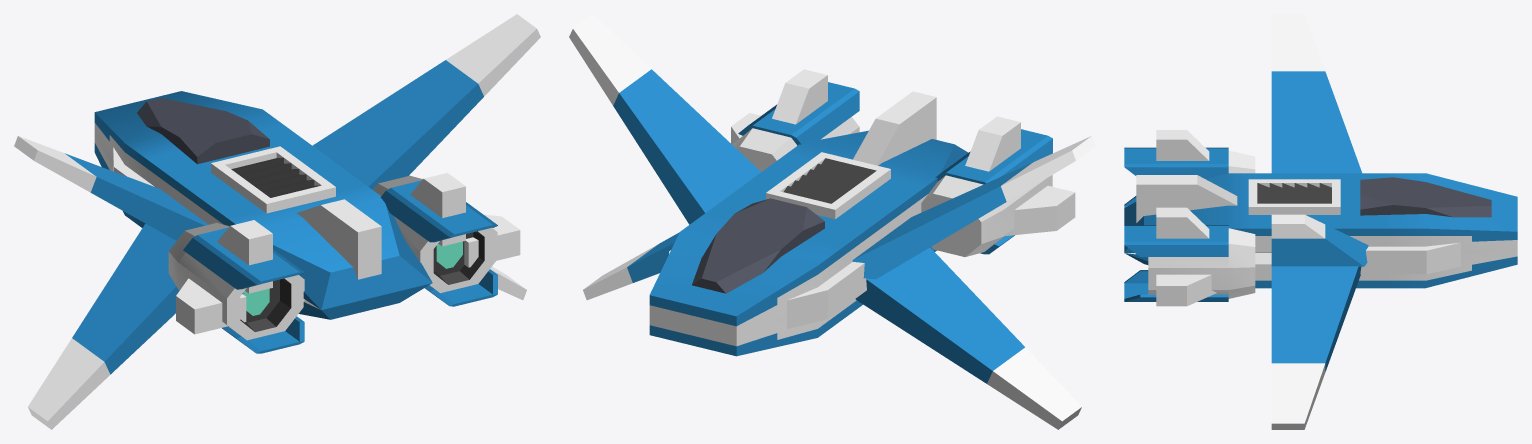
Rendered from Lancer.obj.
3 views of the same model, side by side, from view 1: azimuth 30°, elevation 25°; view 2: azimuth 150°, elevation 25°; view 3: azimuth 270°, elevation 25° (orthographic). The views are drawn at different scales.
Visible parts, largest first — view 1: wing_diagonalFin_22, wing_diagonalFin_12, engine_high_2, ship_frontEdge_5, engine_high_1, ship_hull_4, wing_diagonalFin_21, glass_high_15, air_vent_26, ship_frontSquare_0, plane_rudder_16, plane_rudder_20 (+6 smaller); view 2: wing_diagonalFin_12, wing_diagonalFin_22, ship_frontSquare_0, wing_diagonalFin_21, glass_high_15, ship_hull_4, engine_high_2, engine_high_1, air_vent_26, ship_frontEdge_5, ship_frontSquare_6, plane_rudder_16 (+5 smaller); view 3: wing_diagonalFin_13, wing_diagonalFin_21, engine_high_1, ship_frontSquare_0, glass_high_15, wing_diagonalFin_22, ship_hull_4, air_vent_26, plane_rudder_16, engine_high_2, plane_elevator_28, ship_frontEdge_5 (+5 smaller).
Part boxes in pixels (box(x1,y1,x2,y2)): wing_diagonalFin_22: box(312, 14, 540, 189); wing_diagonalFin_12: box(28, 223, 179, 429); engine_high_2: box(168, 223, 304, 353); ship_frontEdge_5: box(228, 185, 432, 309); engine_high_1: box(373, 175, 497, 306); ship_hull_4: box(148, 127, 365, 225); wing_diagonalFin_21: box(14, 136, 208, 240); glass_high_15: box(137, 97, 269, 164); air_vent_26: box(211, 146, 335, 213); ship_frontSquare_0: box(94, 91, 286, 181); plane_rudder_16: box(297, 199, 381, 279); plane_rudder_20: box(176, 278, 246, 334); wing_diagonalFin_12: box(855, 247, 1081, 429); wing_diagonalFin_22: box(569, 14, 760, 224); ship_frontSquare_0: box(649, 214, 841, 336); wing_diagonalFin_21: box(852, 136, 1095, 279); glass_high_15: box(692, 198, 824, 293); ship_hull_4: box(704, 156, 921, 269); engine_high_2: box(921, 129, 1052, 256); engine_high_1: box(732, 82, 859, 171); air_vent_26: box(766, 152, 890, 219); ship_frontEdge_5: box(784, 130, 968, 202); ship_frontSquare_6: box(649, 309, 841, 356); plane_rudder_16: box(853, 91, 936, 165); wing_diagonalFin_13: box(1271, 266, 1361, 429); wing_diagonalFin_21: box(1271, 14, 1361, 173); engine_high_1: box(1124, 225, 1255, 301); ship_frontSquare_0: box(1386, 173, 1517, 254); glass_high_15: box(1360, 177, 1491, 217); wing_diagonalFin_22: box(1271, 214, 1368, 266); ship_hull_4: box(1255, 173, 1386, 252); air_vent_26: box(1248, 179, 1340, 214); plane_rudder_16: box(1136, 175, 1237, 222); engine_high_2: box(1124, 147, 1255, 207); plane_elevator_28: box(1360, 242, 1460, 274); ship_frontEdge_5: box(1124, 173, 1255, 252).
Bounding box in the file's own units: 3.67 × 1.96 × 3.
